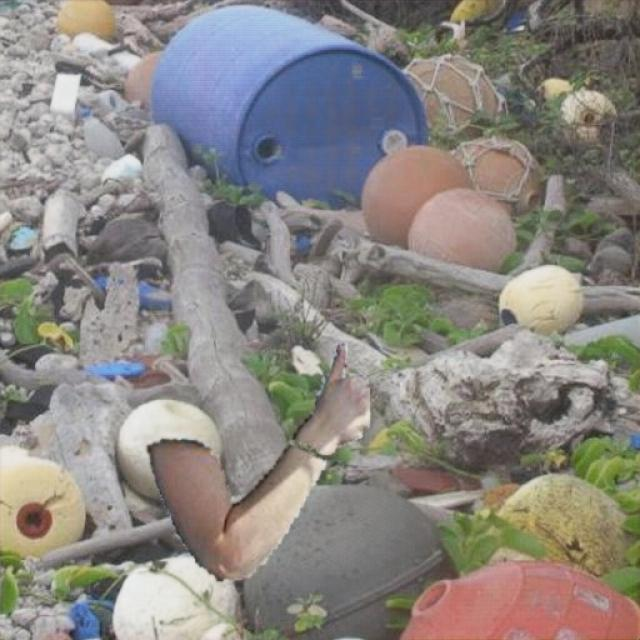Person in Rubble: (148, 342, 368, 580)
